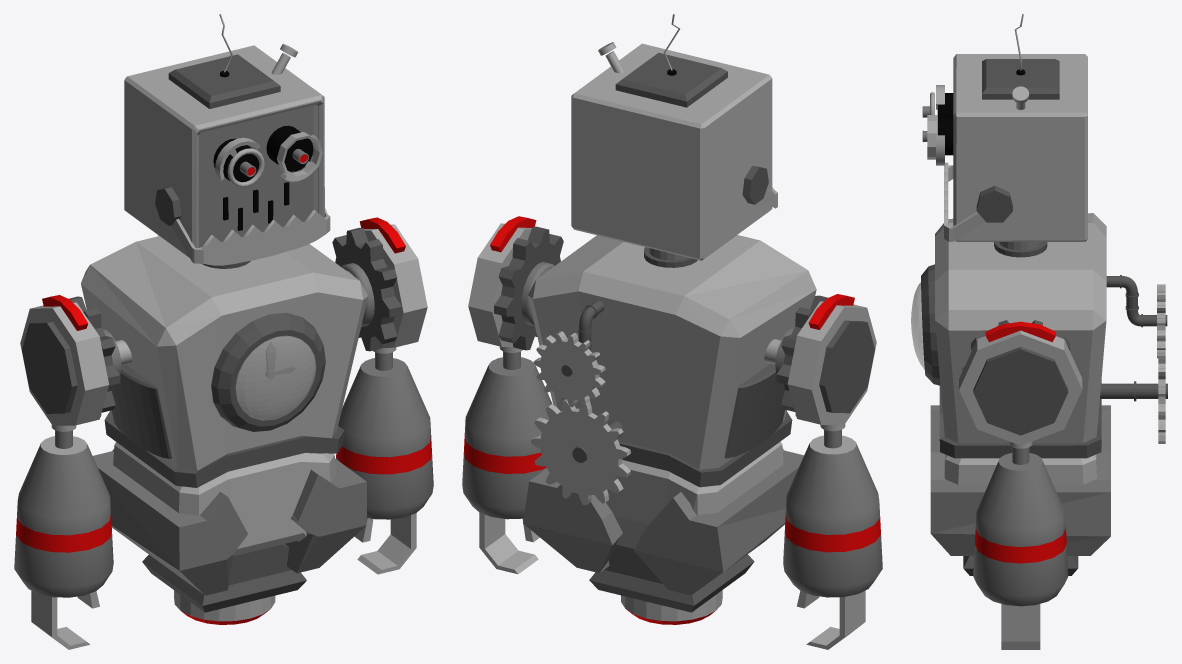
The model's file is Ennemi_basique.fbx.
3 renders of one model, left to right at view 1: azimuth 30°, elevation 25°; view 2: azimuth 150°, elevation 25°; view 3: azimuth 270°, elevation 25°, orthographic. The views are drawn at different scales.
Parts seen in each view (by area): view 1: corps, tete, bras_droit, bras_gauche; view 2: corps, tete, bras_droit, bras_gauche; view 3: corps, tete, bras_gauche.
Part boxes in pixels (box(x1,y1,x2,y2)): corps: box(81, 235, 368, 624); tete: box(124, 14, 330, 265); bras_droit: box(14, 295, 132, 649); bras_gauche: box(332, 217, 433, 574); corps: box(523, 235, 816, 624); tete: box(571, 14, 777, 260); bras_droit: box(764, 294, 882, 649); bras_gauche: box(462, 216, 563, 574); corps: box(911, 213, 1167, 575); tete: box(922, 14, 1087, 241); bras_gauche: box(959, 320, 1082, 649).
Size of the model in its own units: 1.72 by 2.39 by 0.988.
